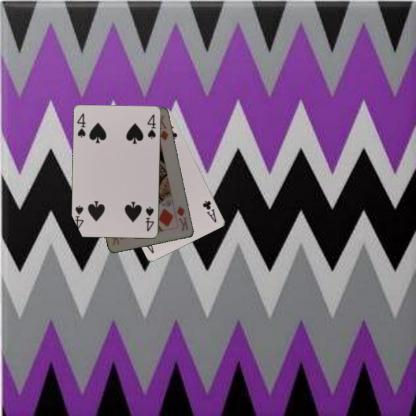4s: (144, 204, 156, 233), (75, 111, 87, 139)
Ac: (200, 198, 218, 224)
Kd: (175, 204, 190, 233)
